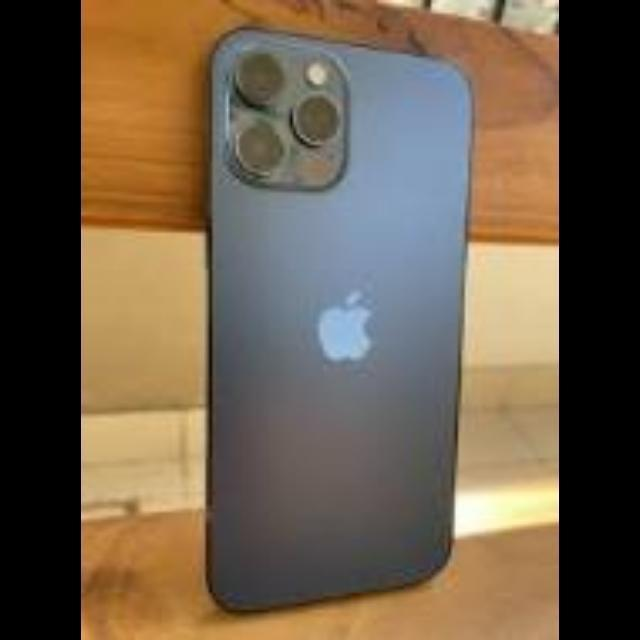phone: (189, 14, 466, 615)
